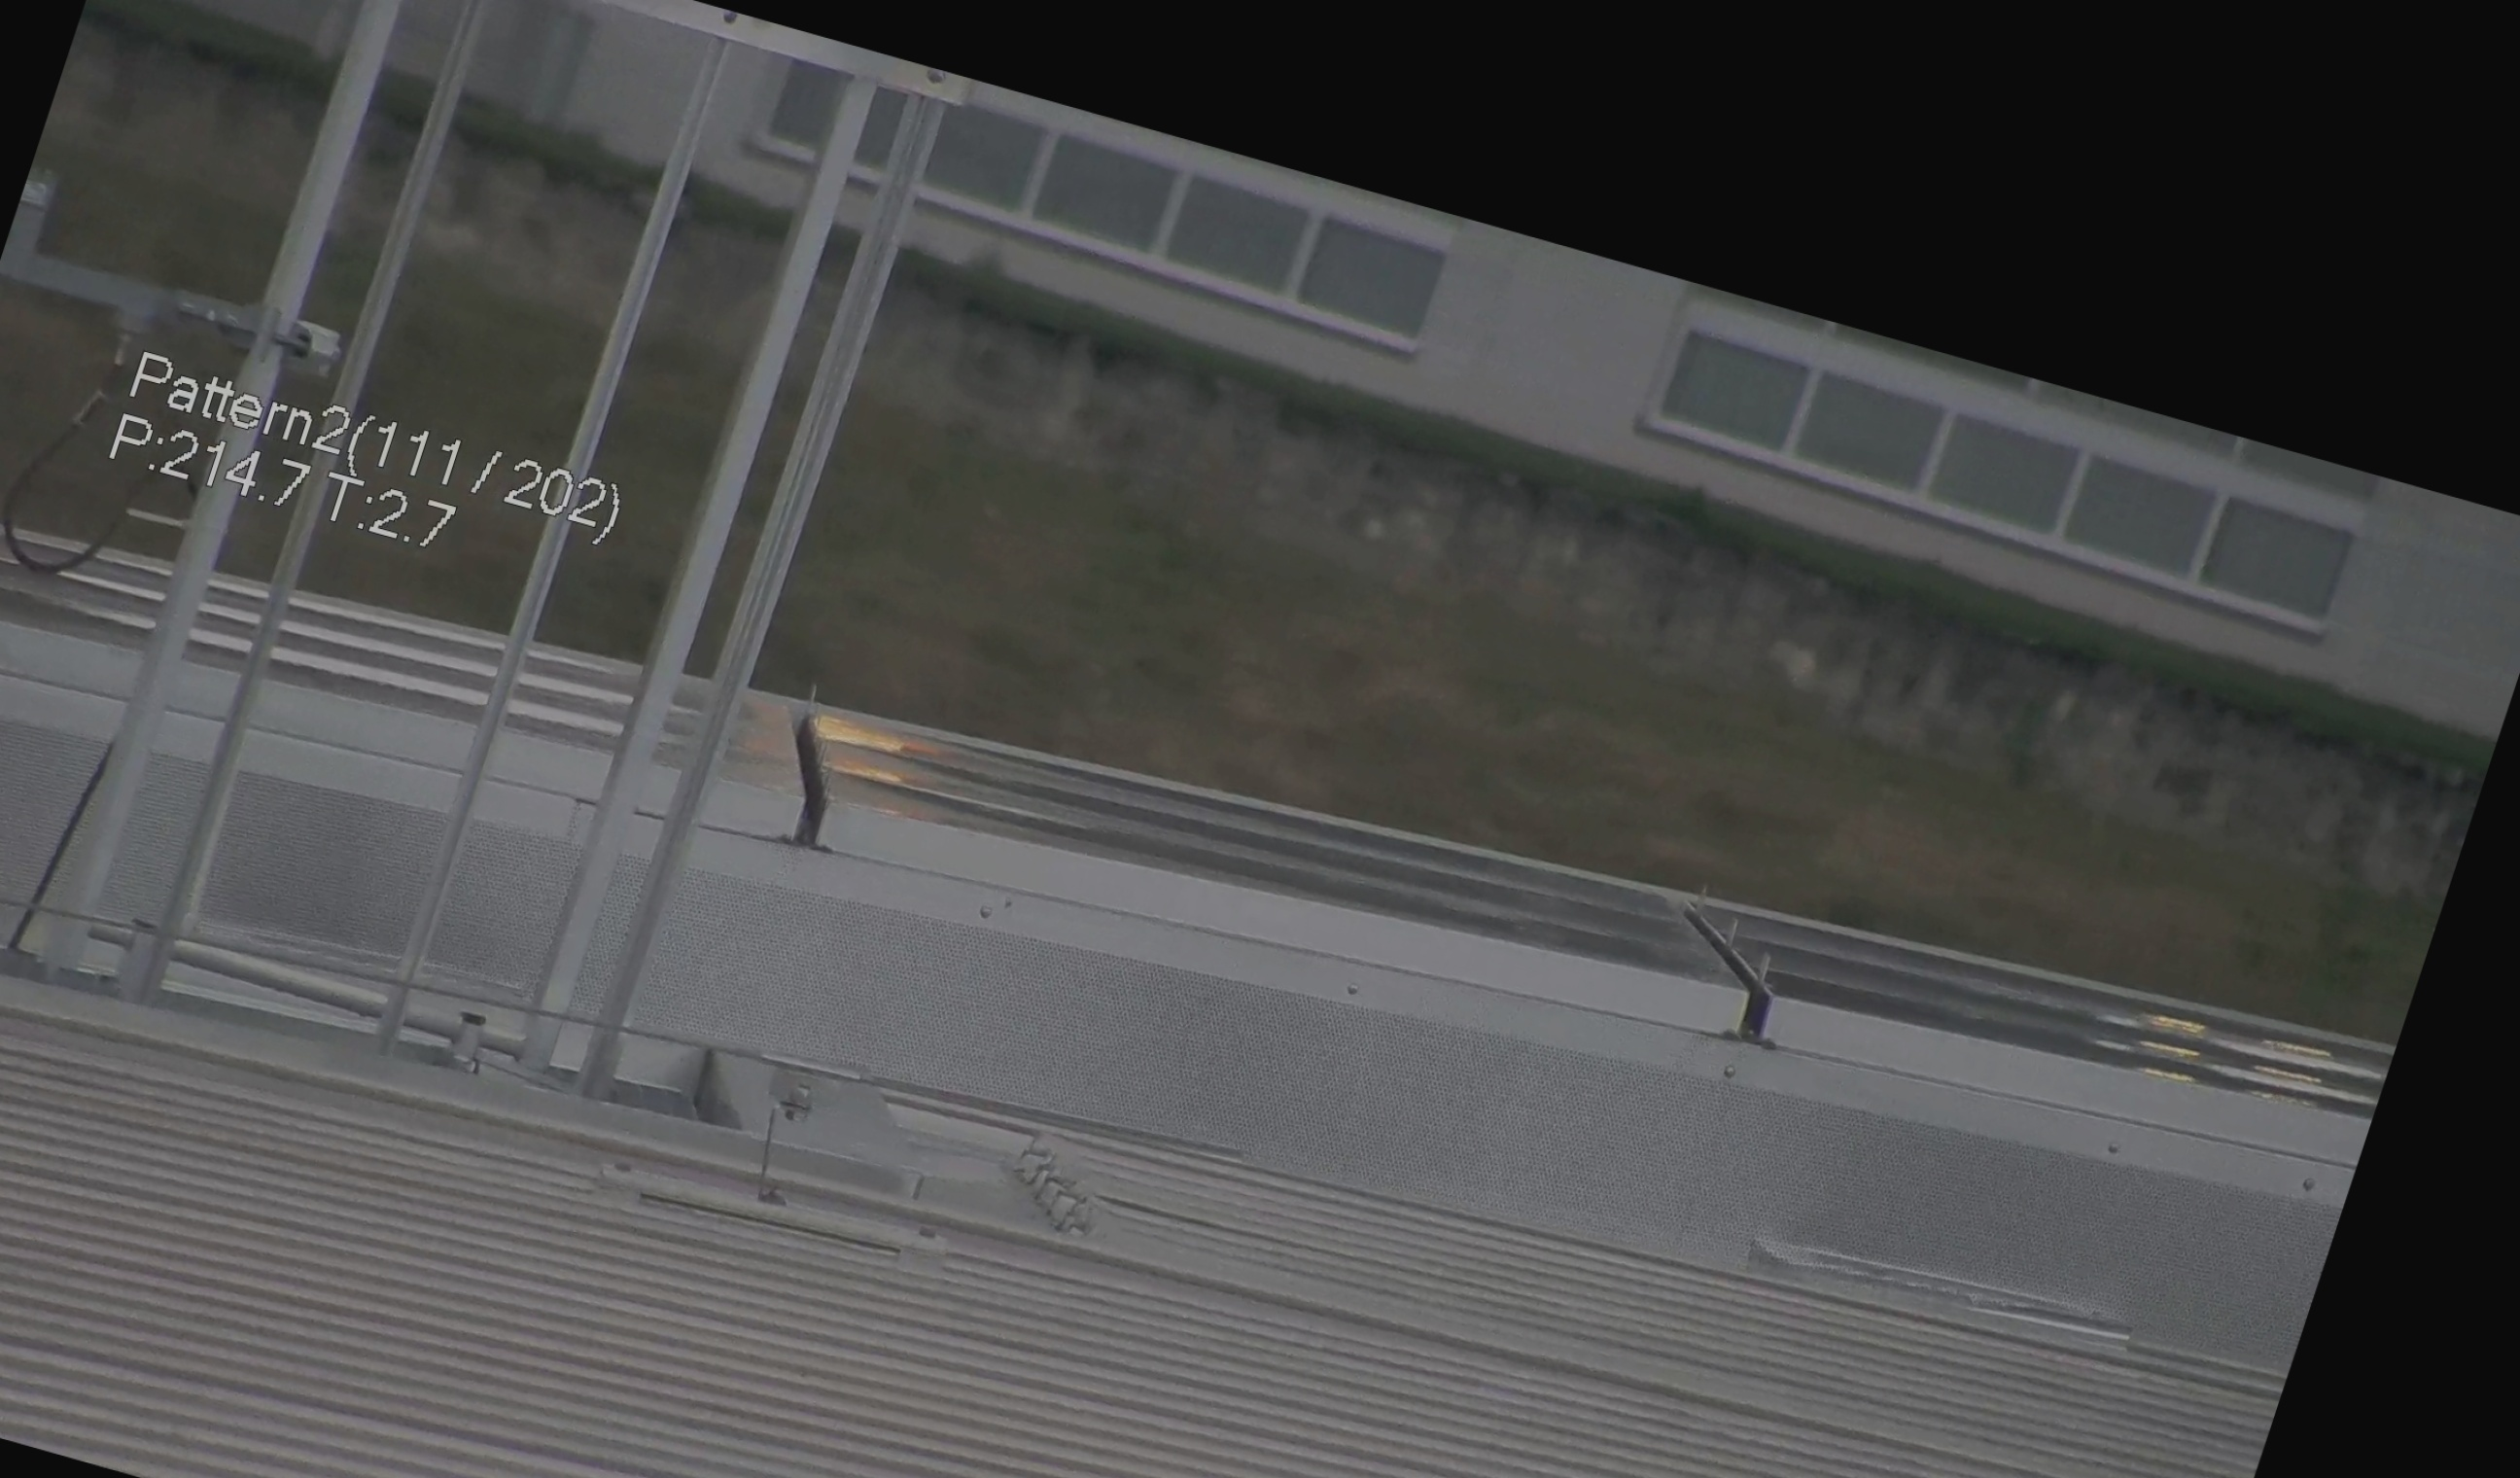Other: (728, 677, 893, 869)
